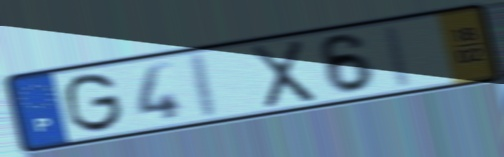4: (133, 60, 187, 123)
6: (314, 30, 379, 97)
G: (62, 70, 127, 135)
I: (379, 22, 417, 92), (189, 50, 223, 123)
X: (247, 37, 319, 112)
